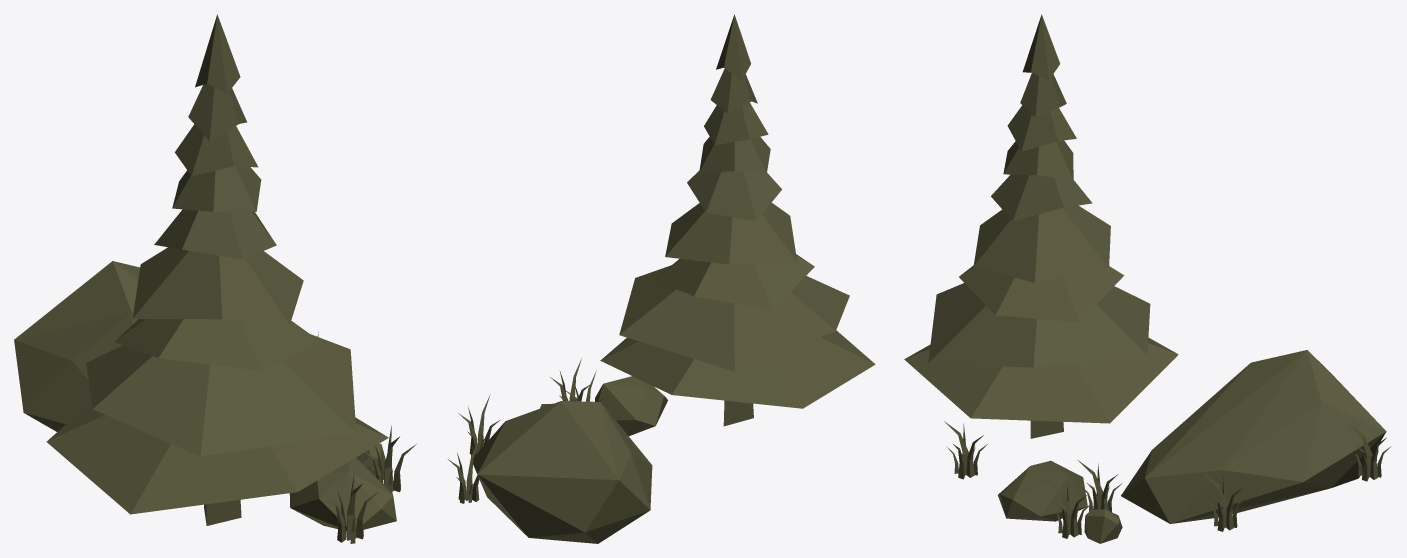
The model's file is testSceneB.glb.
3 renders of one model, left to right at view 1: azimuth 30°, elevation 25°; view 2: azimuth 150°, elevation 25°; view 3: azimuth 270°, elevation 25°, orthographic. The views are drawn at different scales.
Parts seen in each view (by area): view 1: stone_lg; view 2: stone_lg; view 3: stone_lg.
Part boxes in pixels (<box>): stone_lg: <box>14,14,416,543</box>; stone_lg: <box>448,14,875,543</box>; stone_lg: <box>904,14,1391,543</box>.
Bounding box in the file's own units: 3.49 × 5.03 × 4.93.
